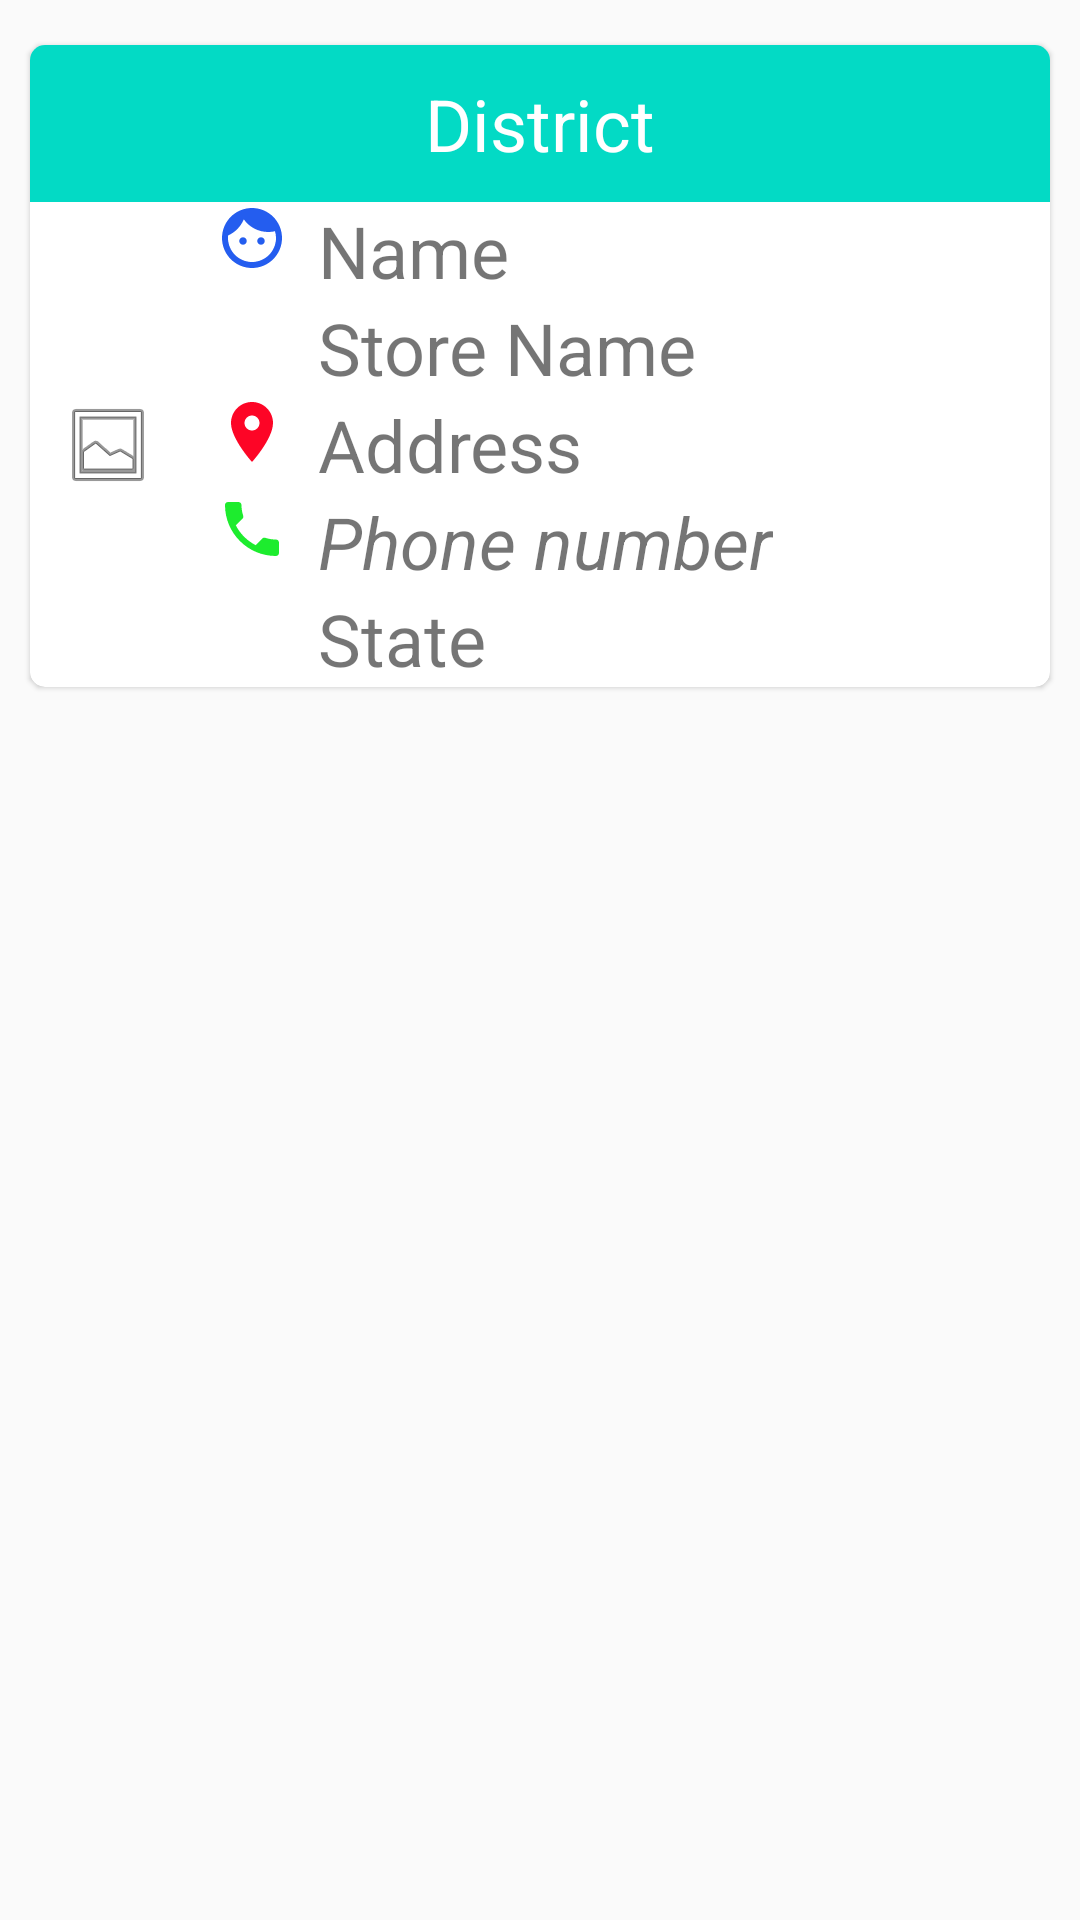

Screen size 1080 × 1920. Icon name, then its box in pixels as (left=x1, top=y1, right=x2, bottom=y2):
gallery: (left=72, top=409, right=144, bottom=481)
location: (left=231, top=402, right=273, bottom=462)
people: (left=222, top=208, right=282, bottom=268)
